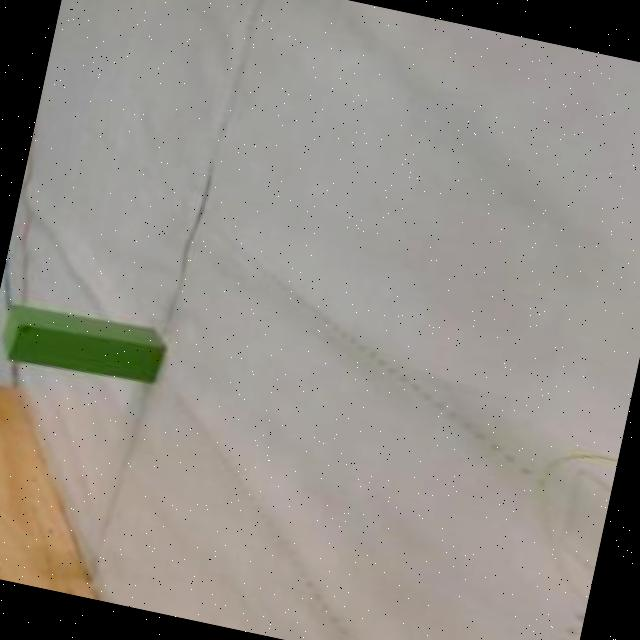greenbox: (0, 299, 166, 391)
